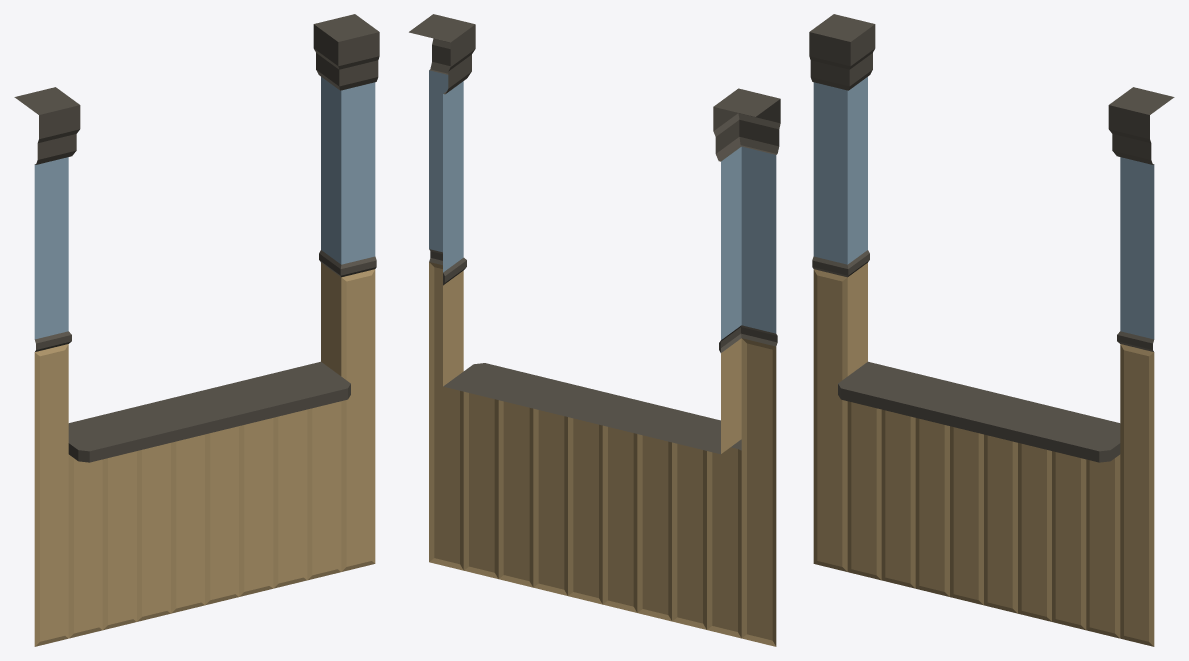
File: Kitchen_Order_window.fbx
3 views of the same model, side by side, from view 1: azimuth 30°, elevation 25°; view 2: azimuth 150°, elevation 25°; view 3: azimuth 330°, elevation 25° (orthographic).
Parts seen in each view (by area): view 1: Kitchen_Order_window; view 2: Kitchen_Order_window; view 3: Kitchen_Order_window.
Boxes of the visible parts, x1,y1,x2,y2 form: Kitchen_Order_window: (14,14,379,646); Kitchen_Order_window: (409,14,780,646); Kitchen_Order_window: (809,14,1174,646).
Bounding box in the file's own units: 200 × 300 × 34.64.
